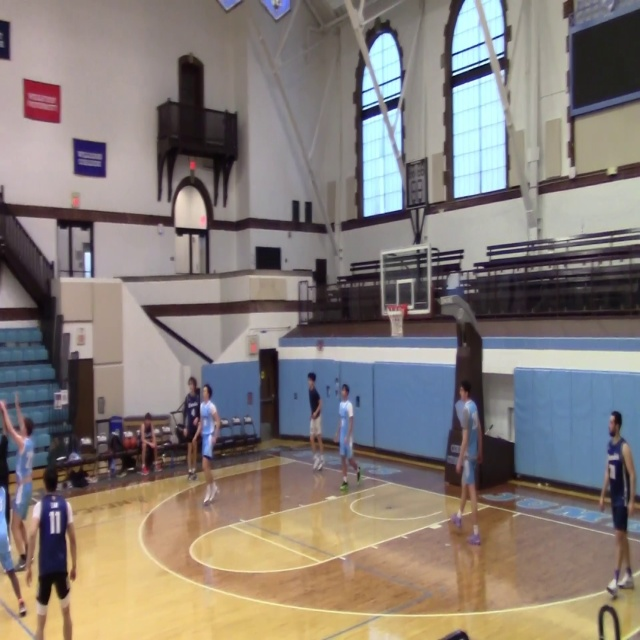Basketball: (122, 430, 137, 449)
